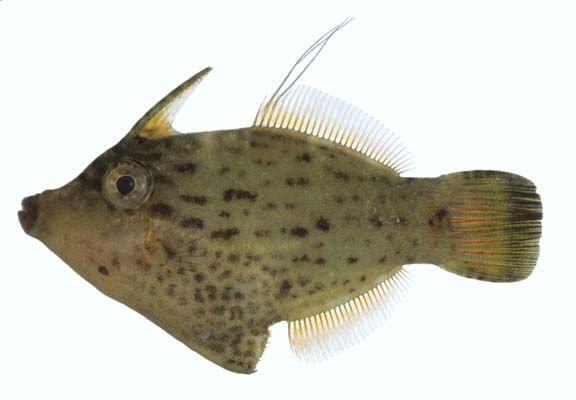fish: (18, 66, 544, 375)
